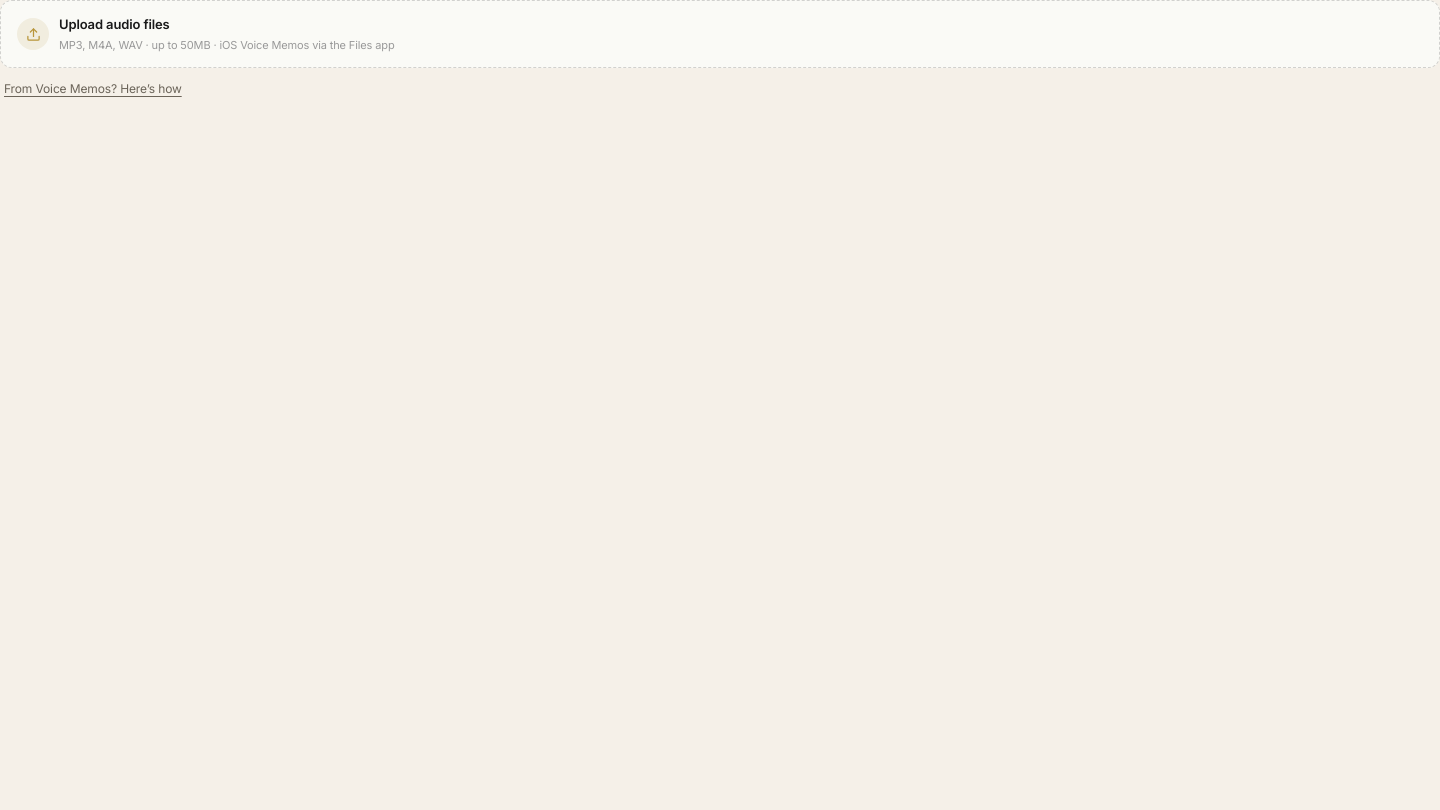
Test: the doors open the coach at the right moment › drop zone: iOS keeps a quiet forever-door back to the coach
The image size is (1440, 810).
Click the button "From Voice Memos? Here’s how" at (93, 89), box [0,70,186,108]
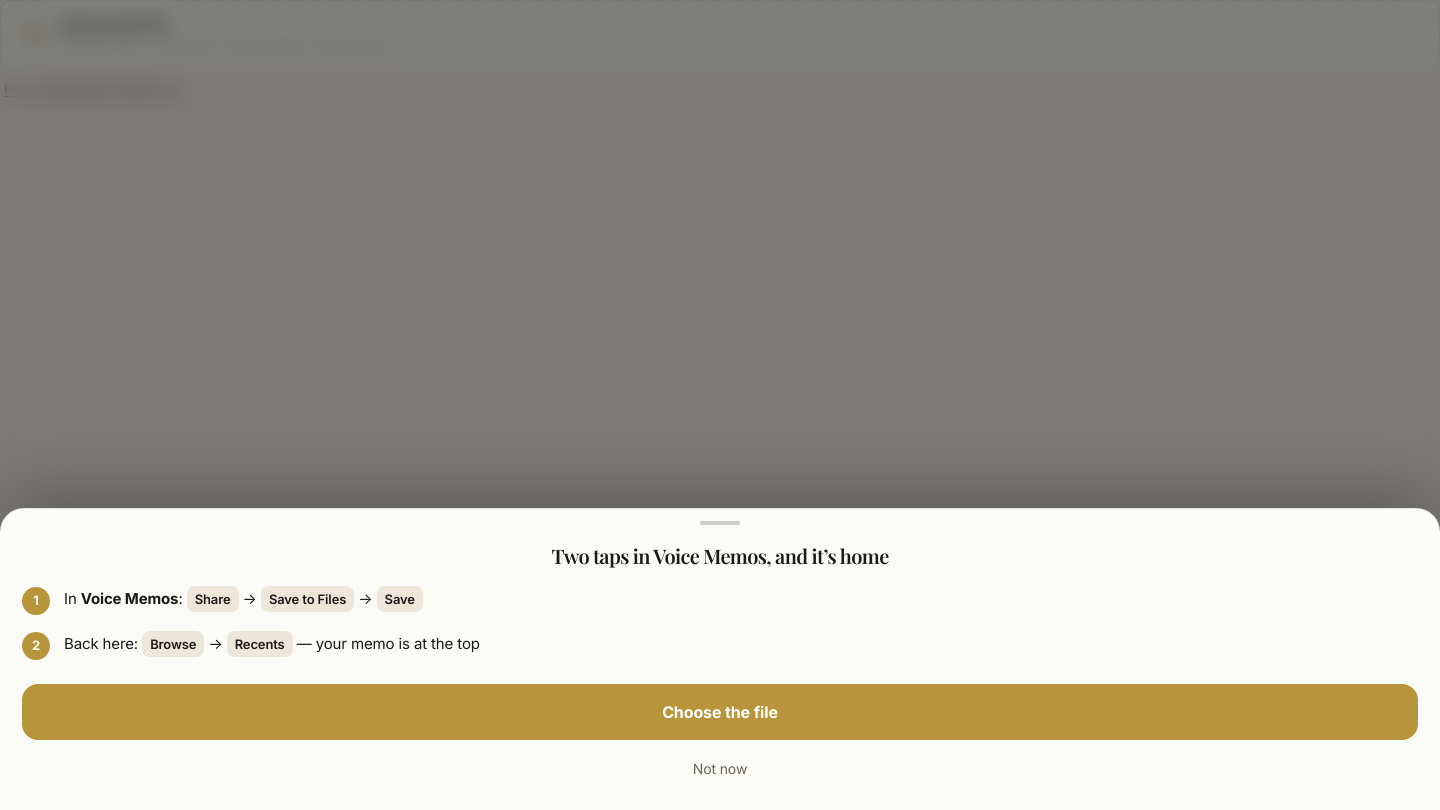
Expected: the heading "Two taps in Voice Memos, and it’s home" is shown, [551,542,889,569]
